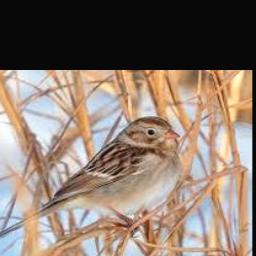Sparrow: (0, 116, 181, 250)
